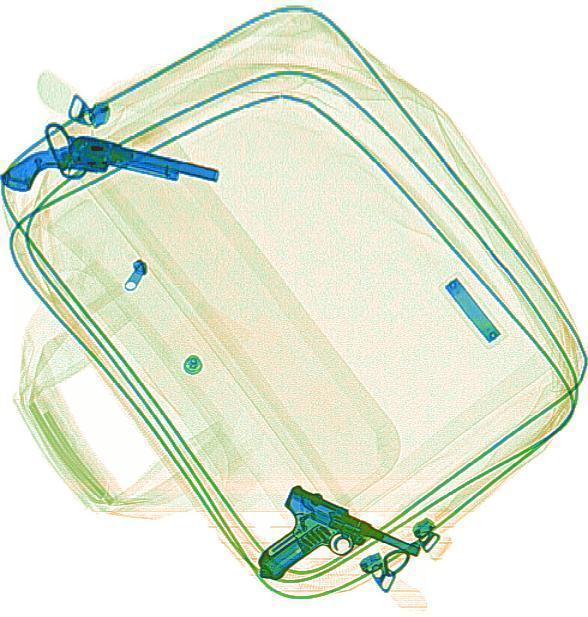Gun: (0, 117, 219, 236), (250, 484, 405, 616)
